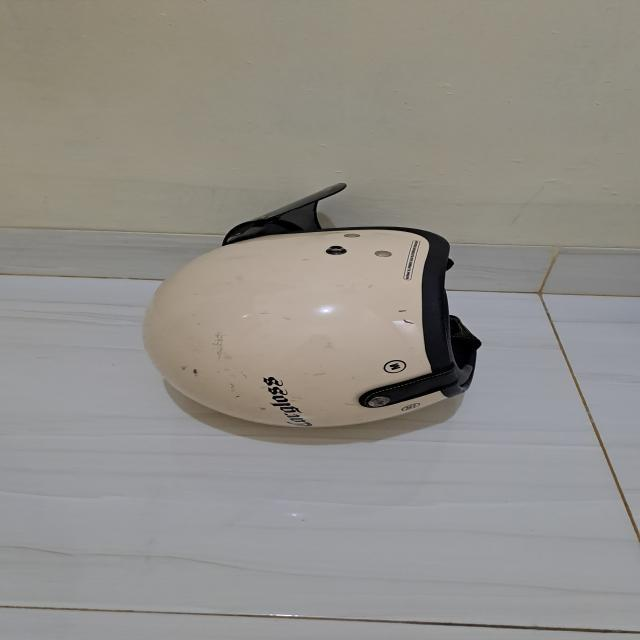Helm: (132, 173, 482, 441)
